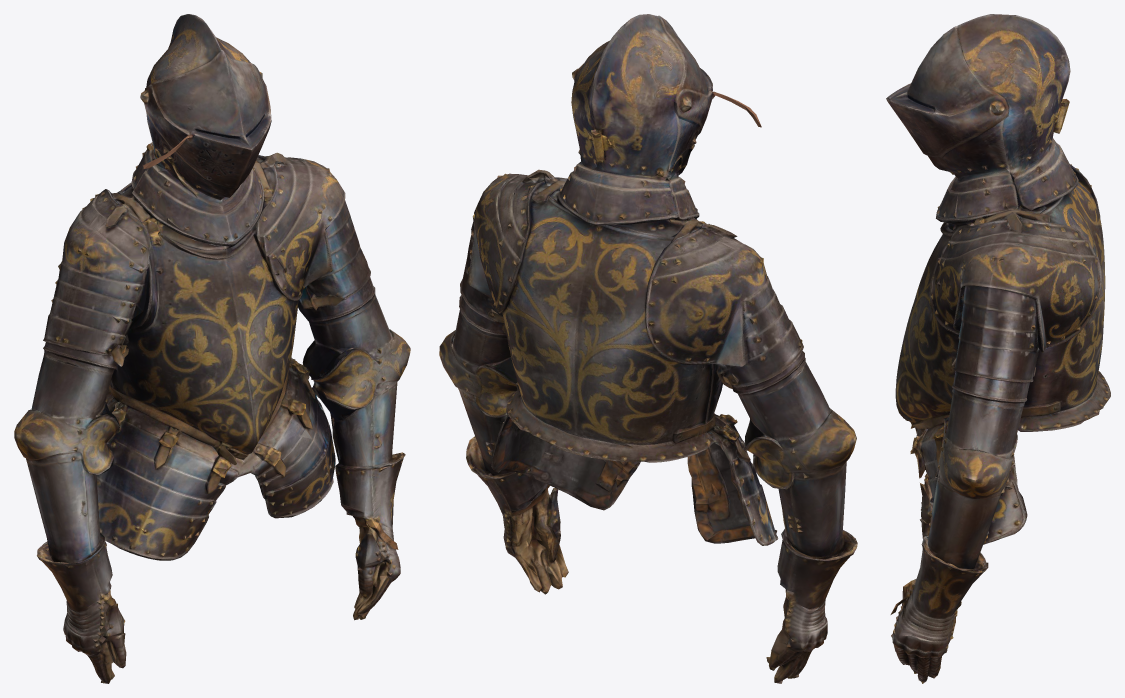
Rendered from armor.glb.
The picture shows the model from 3 angles, left to right: view 1: azimuth 30°, elevation 25°; view 2: azimuth 150°, elevation 25°; view 3: azimuth 270°, elevation 25°; orthographic projection. The views are drawn at different scales.
Parts seen in each view (by area): view 1: armor; view 2: armor; view 3: armor.
Boxes of the visible parts, x1=… form: armor: x1=14, y1=14, x2=410, y2=683; armor: x1=439, y1=14, x2=857, y2=683; armor: x1=886, y1=14, x2=1110, y2=683.
Bounding box in the file's own units: 0.8039 × 1.21 × 0.3942.
1 material, 1 textured.
